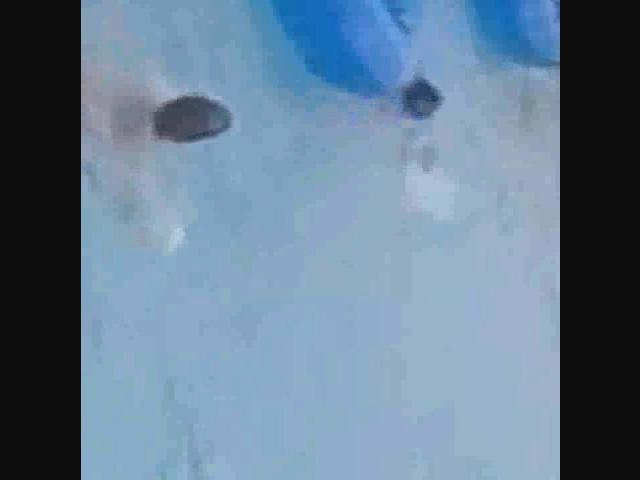drowning: (383, 53, 475, 267)
swimming: (116, 40, 251, 263)
